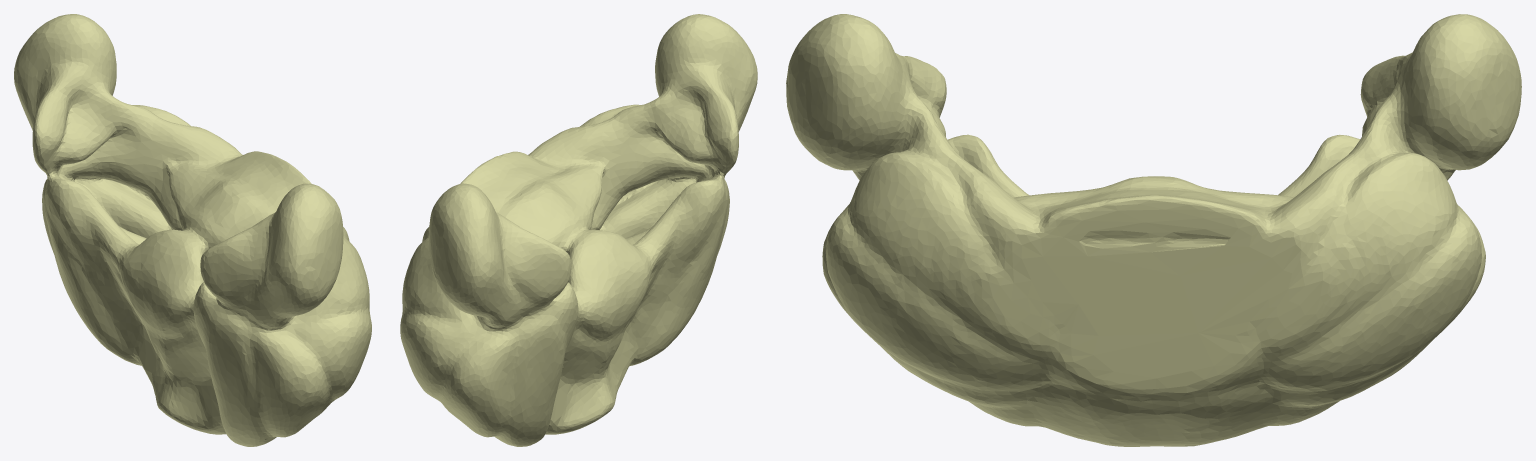
3 views of the same model, side by side, from view 1: azimuth 30°, elevation 25°; view 2: azimuth 150°, elevation 25°; view 3: azimuth 270°, elevation 25° (orthographic). The views are drawn at different scales.
Parts seen in each view (by area): view 1: 528.obj; view 2: 528.obj; view 3: 528.obj.
Part boxes in pixels (x1,y1,x2,y2): 528.obj: (14,14,371,446); 528.obj: (400,14,757,446); 528.obj: (786,14,1521,446).
Bounding box in the file's own units: 3344 × 5787 × 9272.
